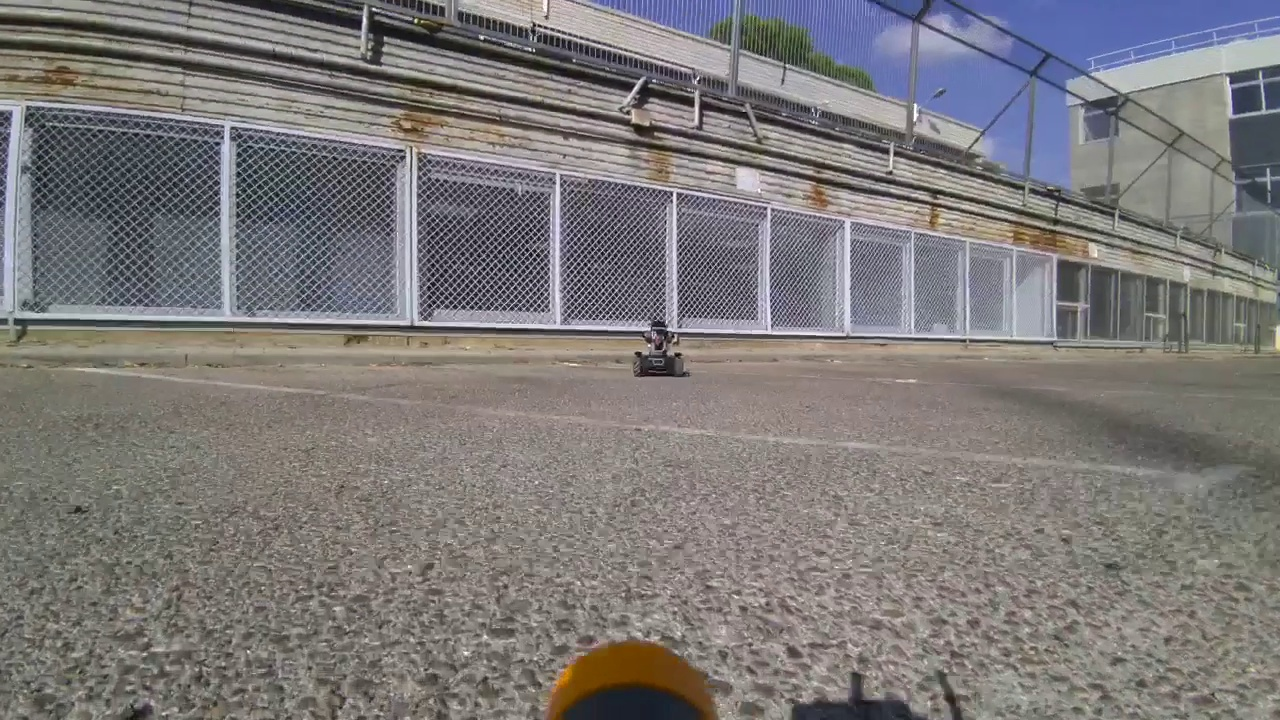robot: (626, 317, 694, 382)
